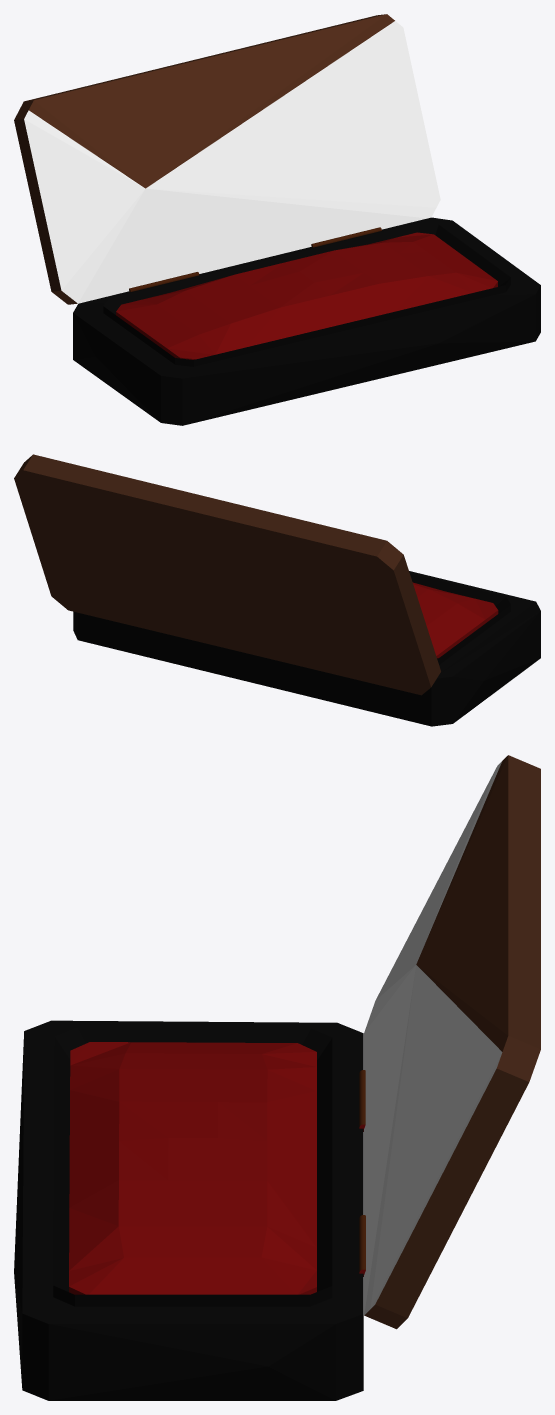
The model's file is redinju.FBX.
3 views of the same model, one above another, from view 1: azimuth 30°, elevation 25°; view 2: azimuth 150°, elevation 25°; view 3: azimuth 270°, elevation 25° (orthographic). The views are drawn at different scales.
Visible parts, largest first — view 1: Box001; view 2: Box001; view 3: Box001.
Boxes of the visible parts, <box> form: Box001: <box>14,14,540,425</box>; Box001: <box>14,454,540,726</box>; Box001: <box>14,755,540,1400</box>.
Bounding box in the file's own units: 1224 × 881 × 655.
